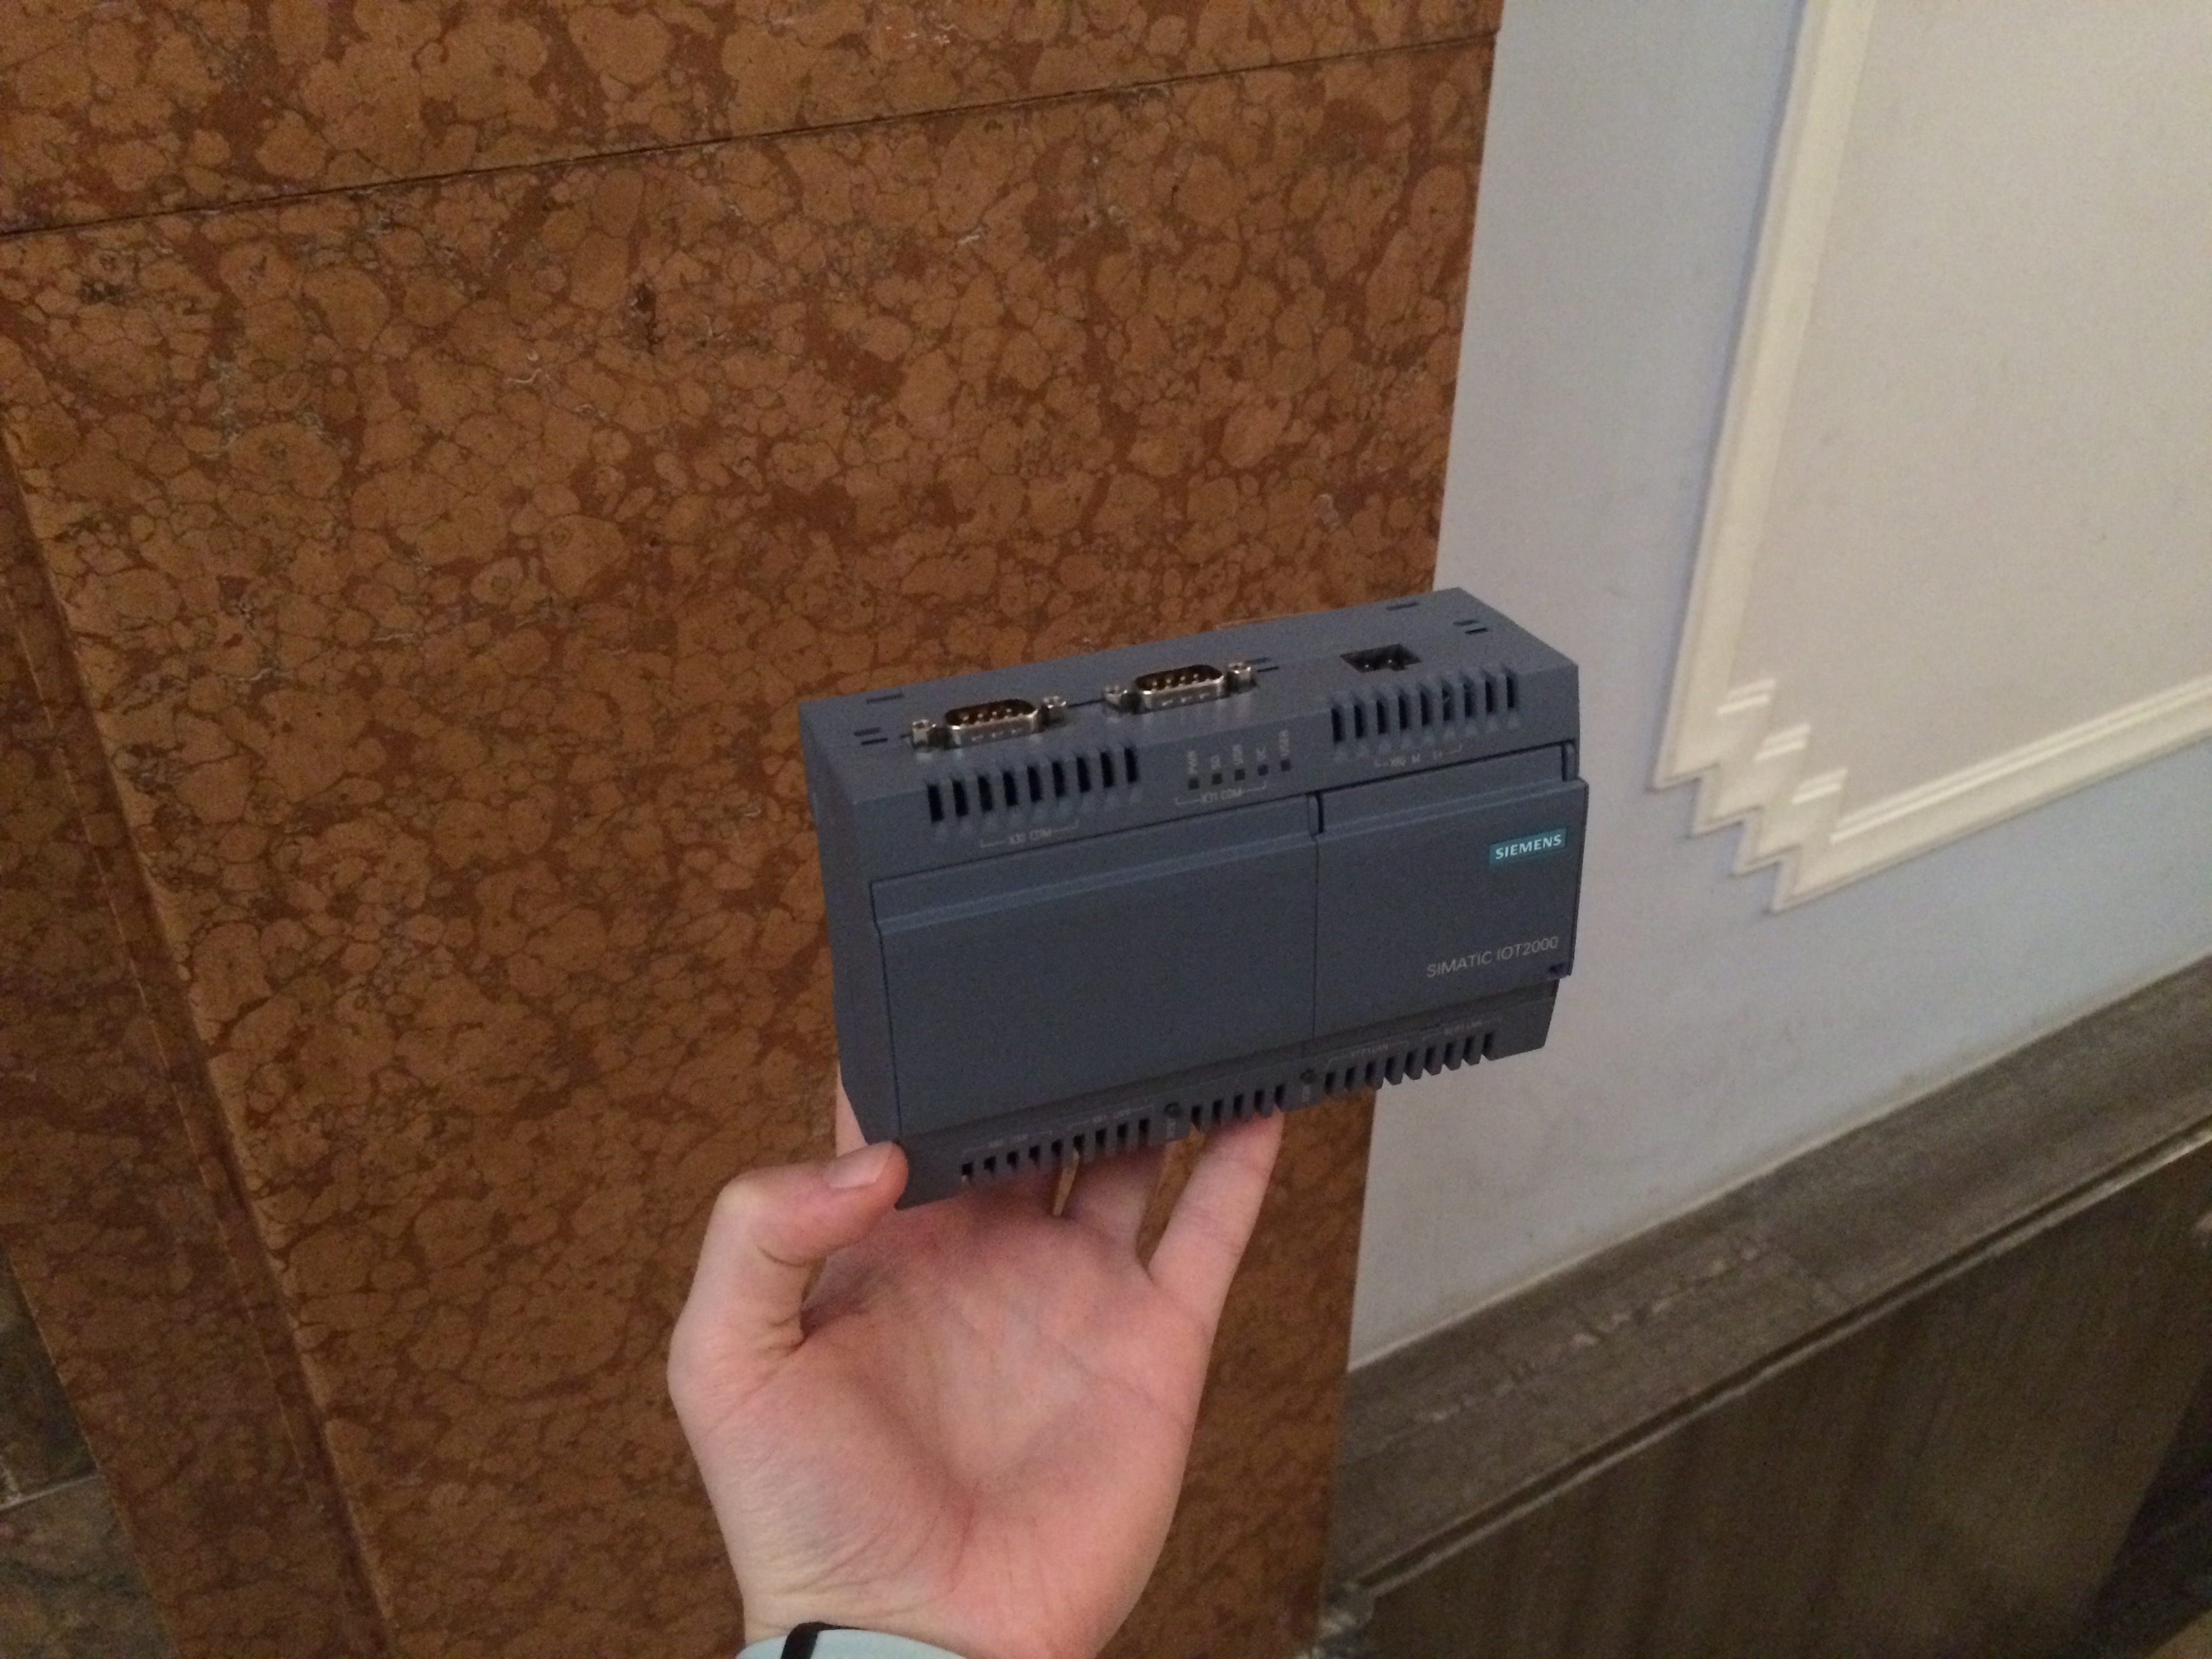iot2000: (794, 582, 1594, 1215)
